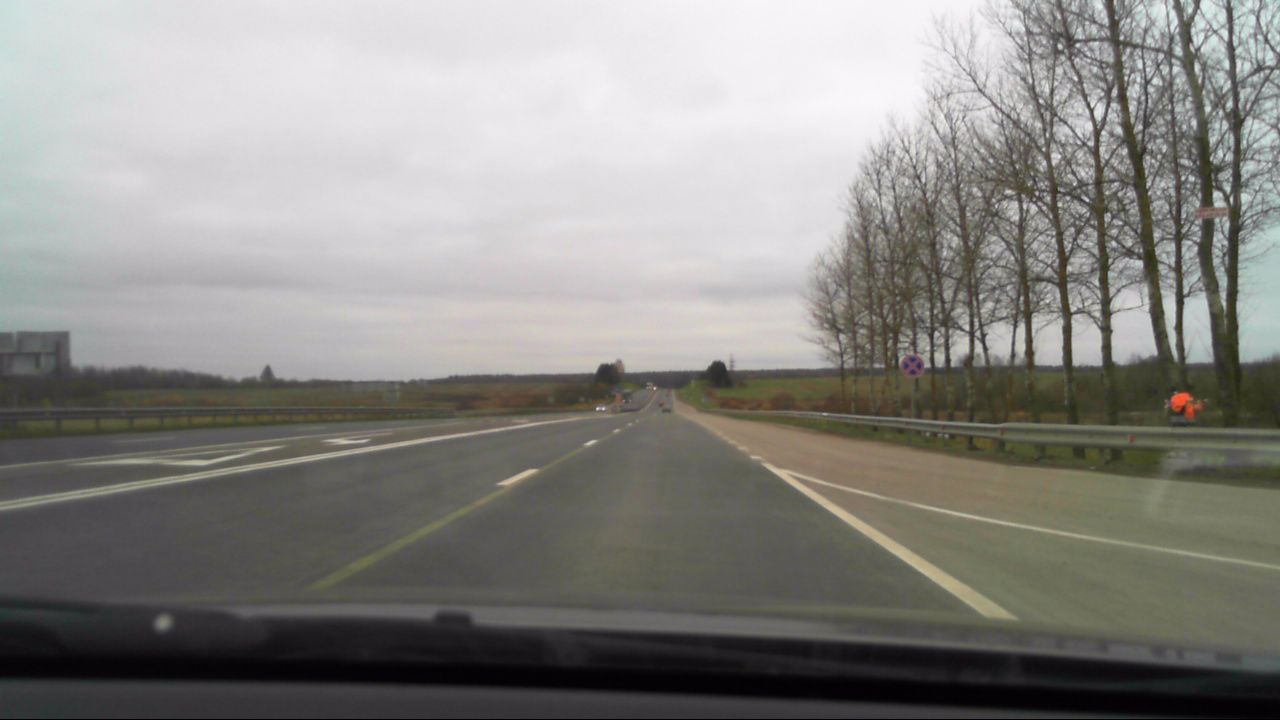No Parking: (898, 354, 923, 377)
